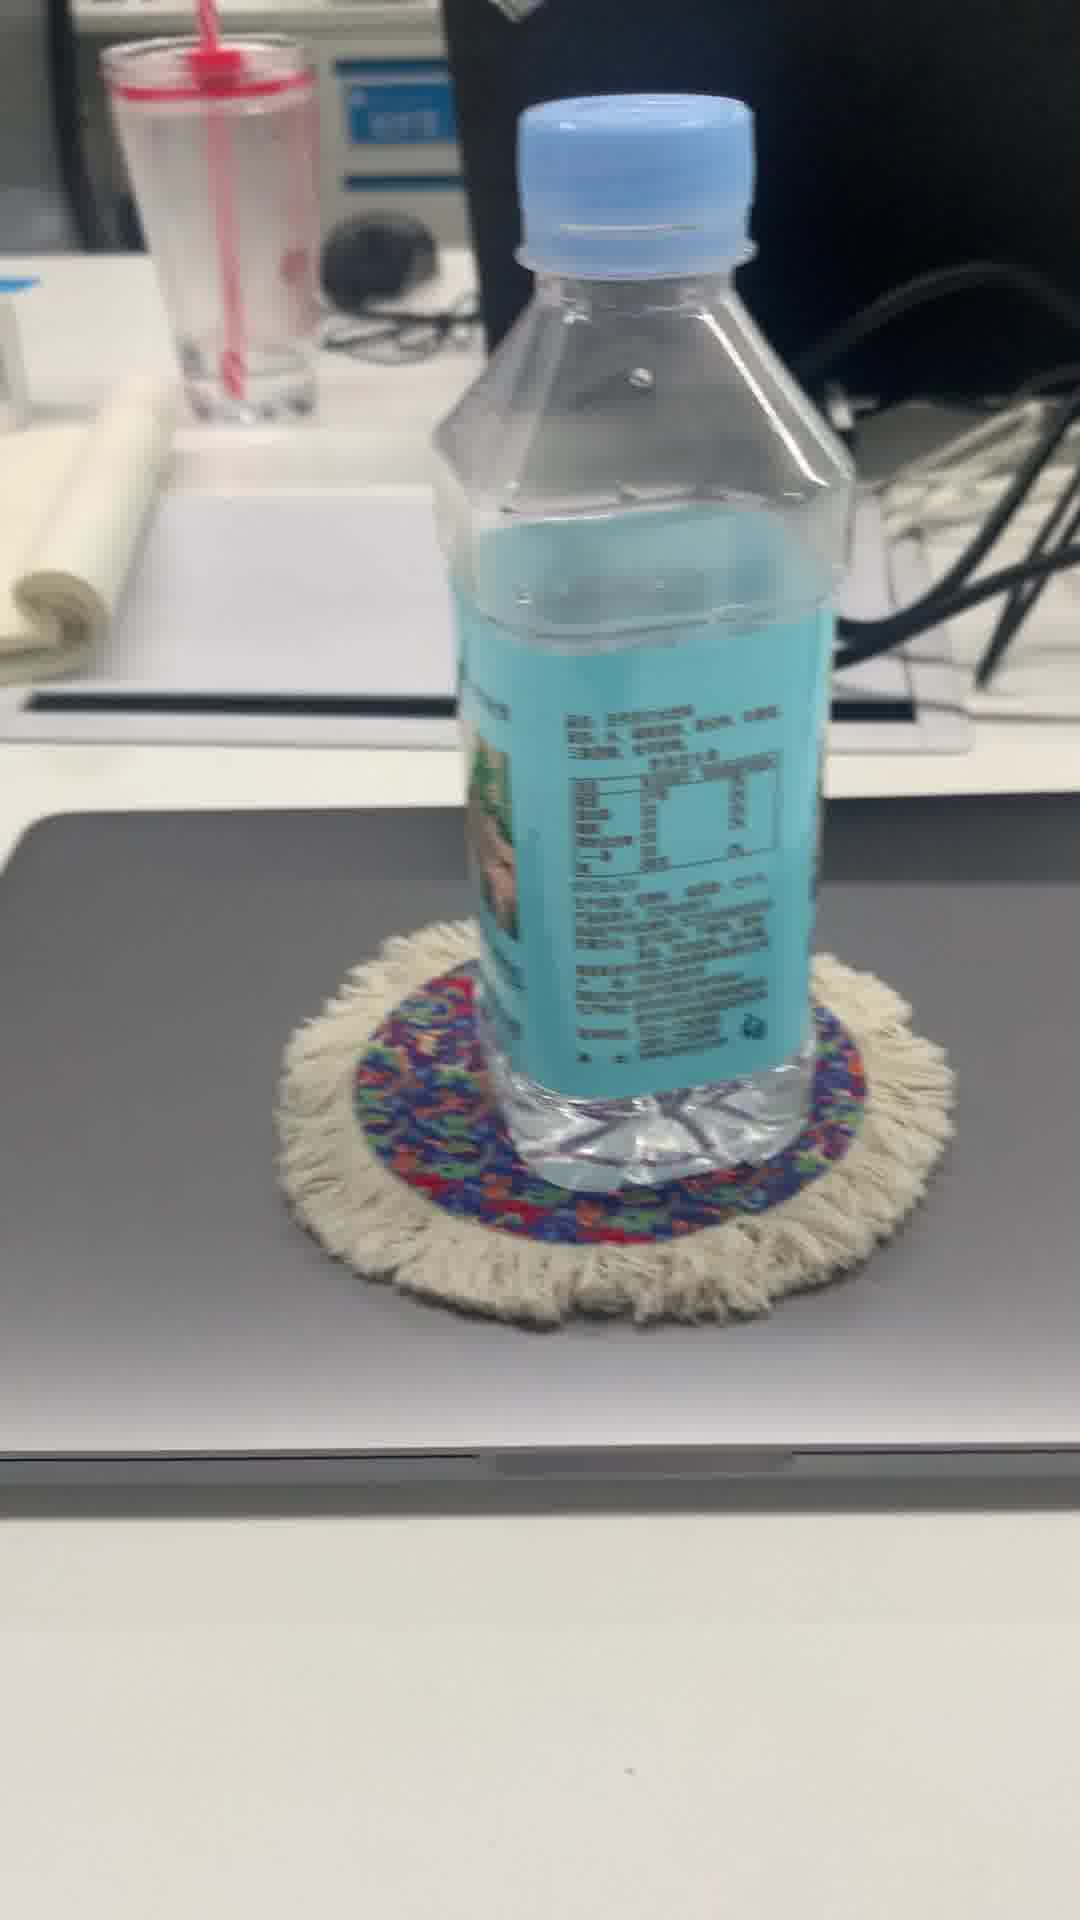水瓶: (405, 82, 848, 1193)
